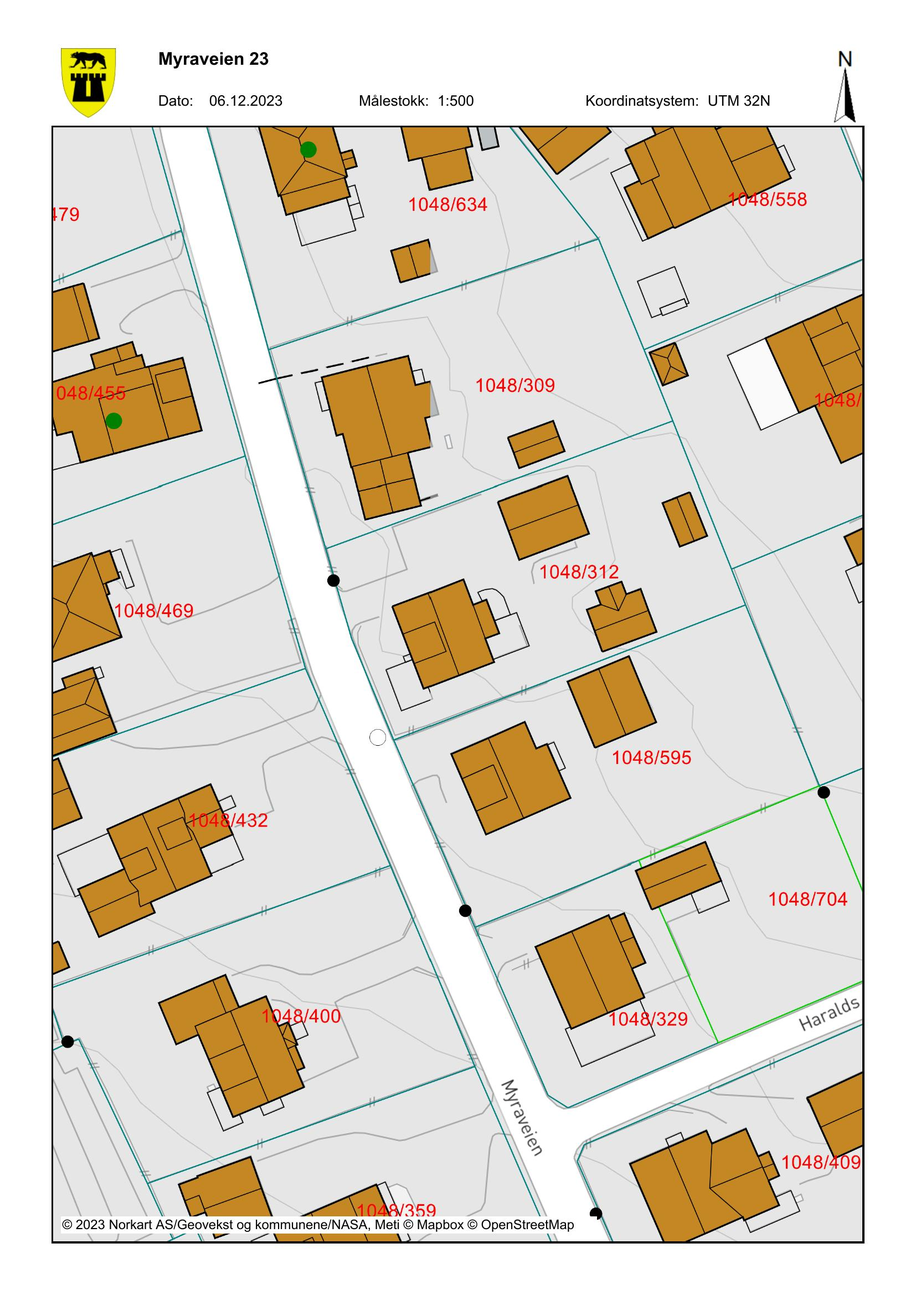situasjonskart: (51, 125, 868, 1246)
